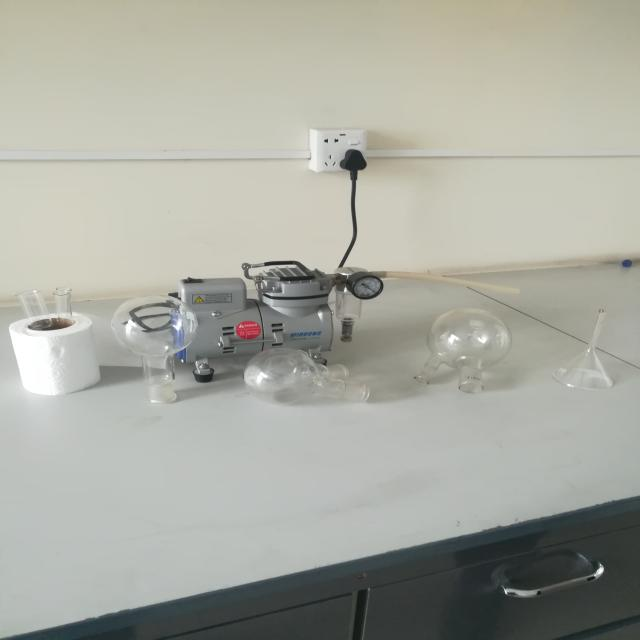Funnel: (542, 303, 640, 403)
Round_Bottom_Flask_Borosilicate_Glass_1_Neck: (100, 258, 204, 422)
Round_Bottom_Flask_Borosilicate_Glass_2_Neck: (409, 305, 521, 406)
Round_Bottom_Flask_Borosilicate_Glass_3_Neck: (237, 316, 377, 425)
